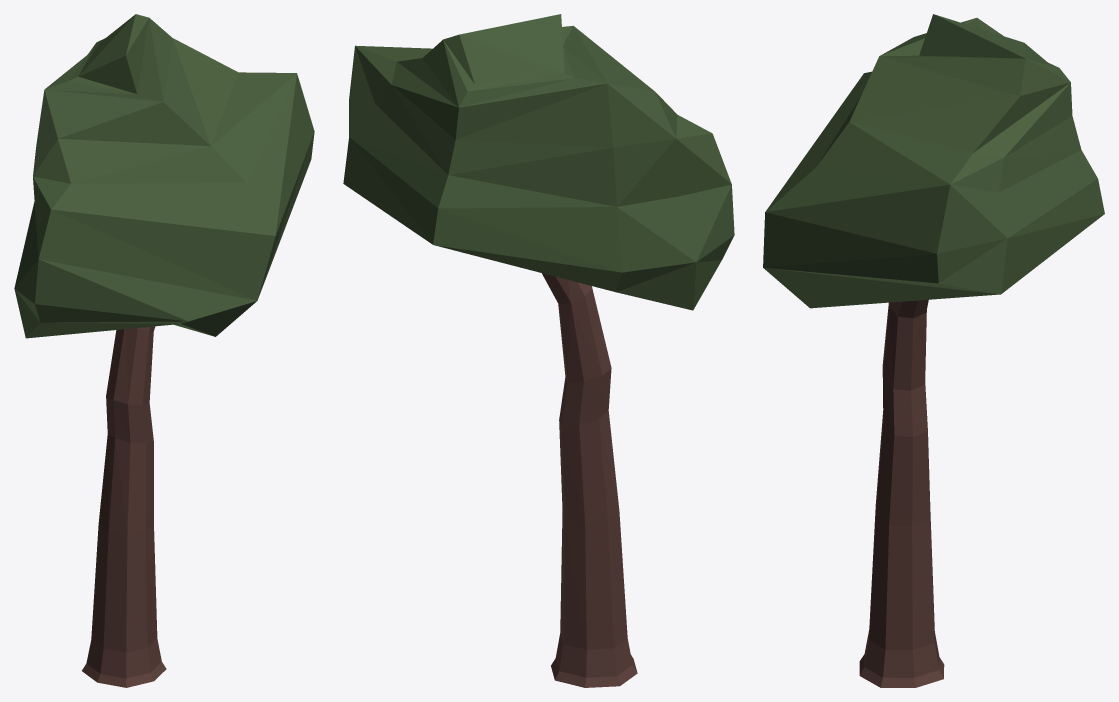
Rendered from tree_peach.s2.glb.
3 views of the same model, side by side, from view 1: azimuth 30°, elevation 25°; view 2: azimuth 150°, elevation 25°; view 3: azimuth 270°, elevation 25° (orthographic). The views are drawn at different scales.
Size of the model in its own units: 0.1864 by 0.3399 by 0.1585.
